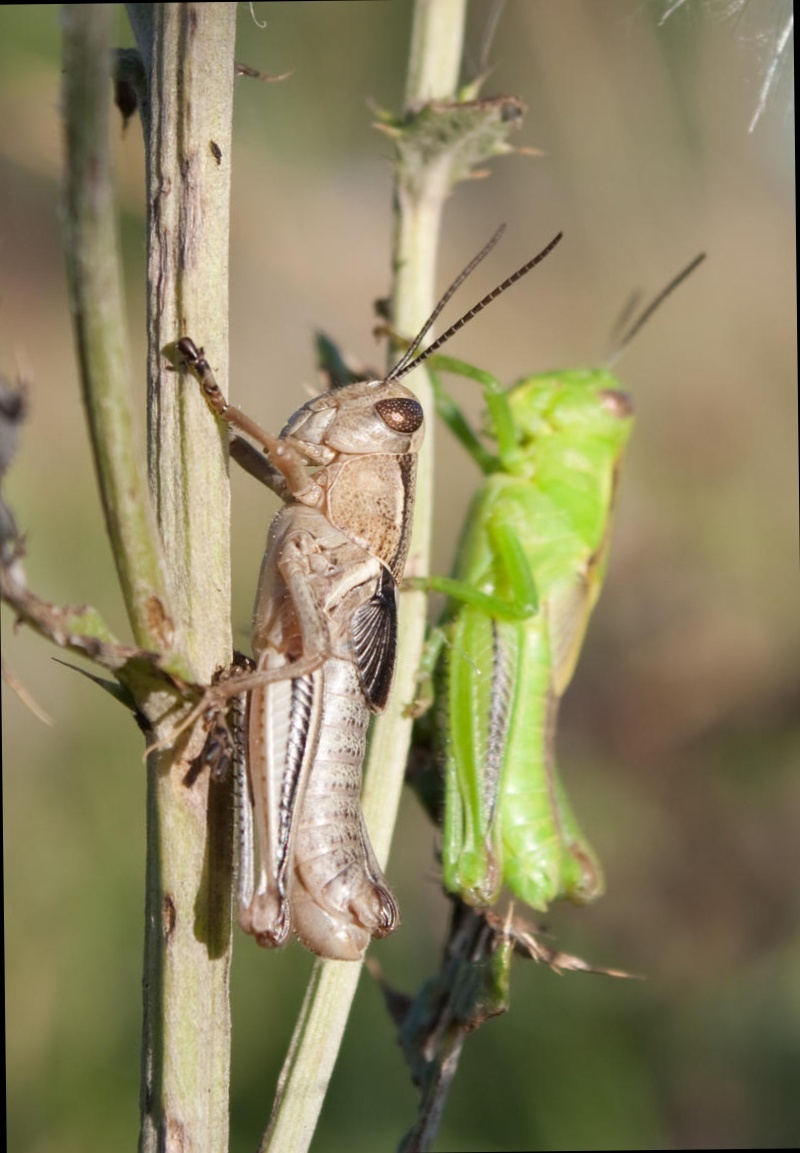Brown_hopper: (188, 317, 477, 982)
